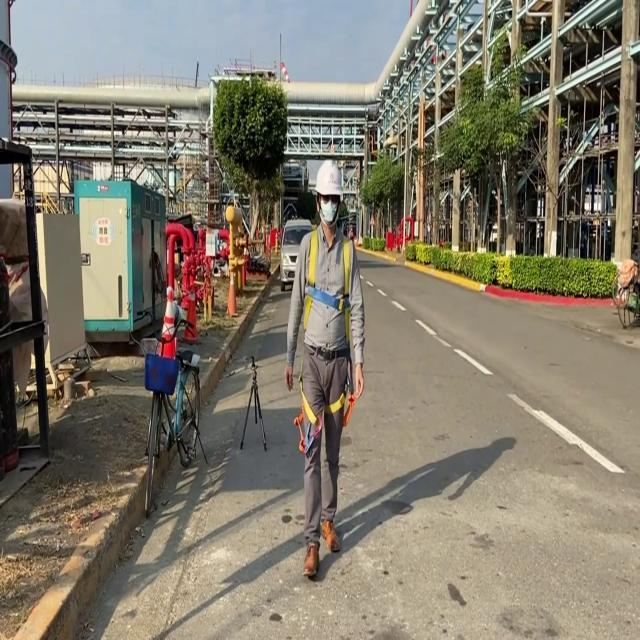Harness: (304, 229, 353, 342), (294, 392, 356, 454)
